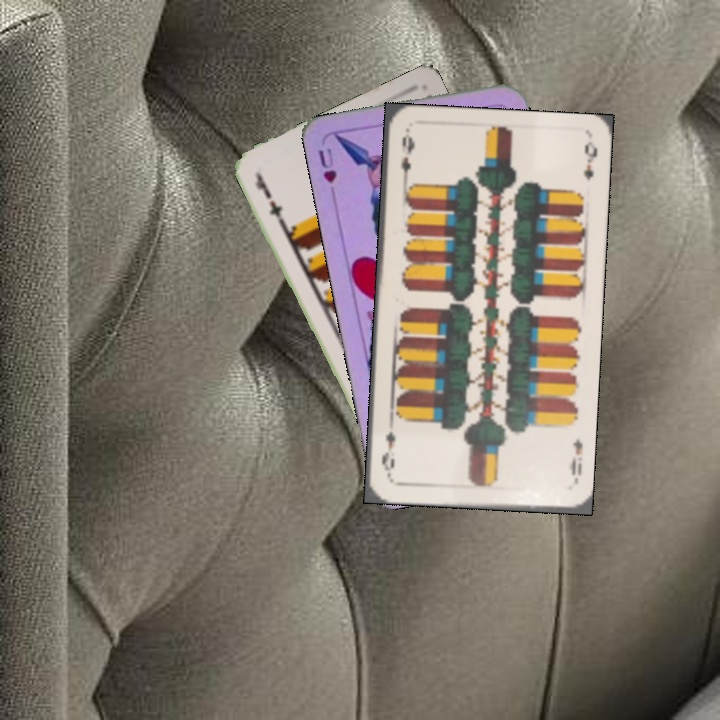E7: (251, 170, 286, 226)
E9: (397, 130, 417, 188), (566, 434, 585, 487)
HU: (314, 143, 340, 186)
